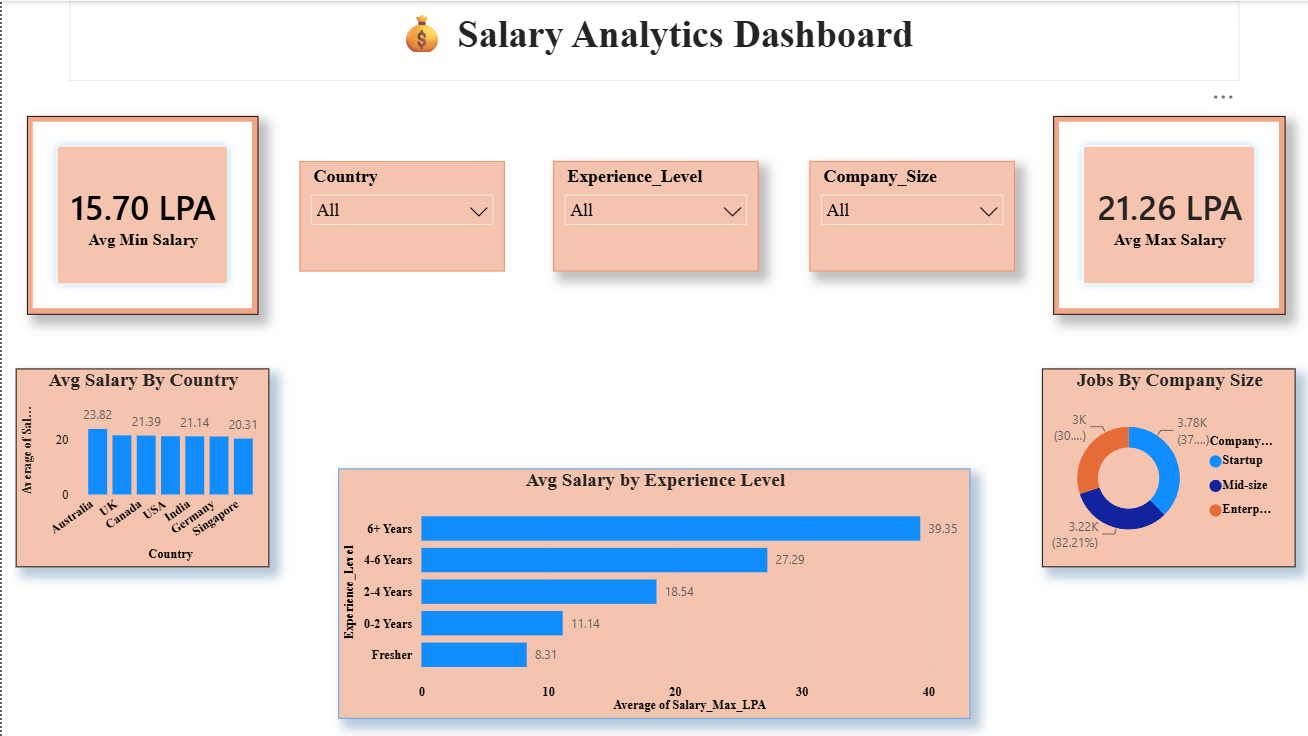

The dashboard page shown, as its layout file describes it:
{"tool":"powerbi","page":{"name":"Salary Analysis","canvas":[1280,720],"ordinal":1},"visuals":[{"type":"donutChart","title":"Jobs By Company Size","fields":{"Y":["CountNonNull(Jobs.Job_ID)"],"Category":["Jobs.Company_Size"]},"box":[1017.4,359.5,248.2,194.4],"z":0},{"type":"clusteredColumnChart","title":"Avg Salary By Country","fields":{"Y":["Avg(Jobs.Salary_Max_LPA)"],"Category":["Jobs.Country"]},"box":[13.5,359.5,248.2,194.4],"z":1000},{"type":"cardVisual","fields":{"Data":["Avg(Jobs.Salary_Max_LPA)"]},"box":[1028.4,112.5,227.4,194.4],"z":2000},{"type":"clusteredBarChart","title":"Avg Salary by Experience Level","fields":{"Category":["Jobs.Experience_Level"],"Y":["Avg(Jobs.Salary_Max_LPA)"]},"box":[328.9,457.3,618.8,244.6],"z":3000},{"type":"cardVisual","fields":{"Data":["Avg(Jobs.Salary_Min_LPA)"]},"box":[24.5,112.5,226.2,194.4],"z":4000},{"type":"textbox","box":[66,0,1144.6,78.3],"z":5000},{"type":"slicer","fields":{"Values":["Jobs.Country"]},"box":[291,156.5,200.5,107.6],"z":6000},{"type":"slicer","fields":{"Values":["Jobs.Experience_Level"]},"box":[539.3,156.5,200.5,107.6],"z":7000},{"type":"slicer","fields":{"Values":["Jobs.Company_Size"]},"box":[789.9,156.5,200.5,107.6],"z":8000}]}

Visuals, with their boxes in screenshot pixels (x1, y1, x2, y2), scaled from the page's 1280x720 canvas onto the 1308x736 screenshot:
"Jobs By Company Size" donutChart: [left=1040, top=367, right=1293, bottom=566]
"Avg Salary By Country" clusteredColumnChart: [left=14, top=367, right=267, bottom=566]
cardVisual - Avg(Jobs.Salary_Max_LPA): [left=1051, top=115, right=1283, bottom=314]
"Avg Salary by Experience Level" clusteredBarChart: [left=336, top=467, right=968, bottom=717]
cardVisual - Avg(Jobs.Salary_Min_LPA): [left=25, top=115, right=256, bottom=314]
textbox: [left=67, top=0, right=1237, bottom=80]
slicer - Jobs.Country: [left=297, top=160, right=502, bottom=270]
slicer - Jobs.Experience_Level: [left=551, top=160, right=756, bottom=270]
slicer - Jobs.Company_Size: [left=807, top=160, right=1012, bottom=270]
